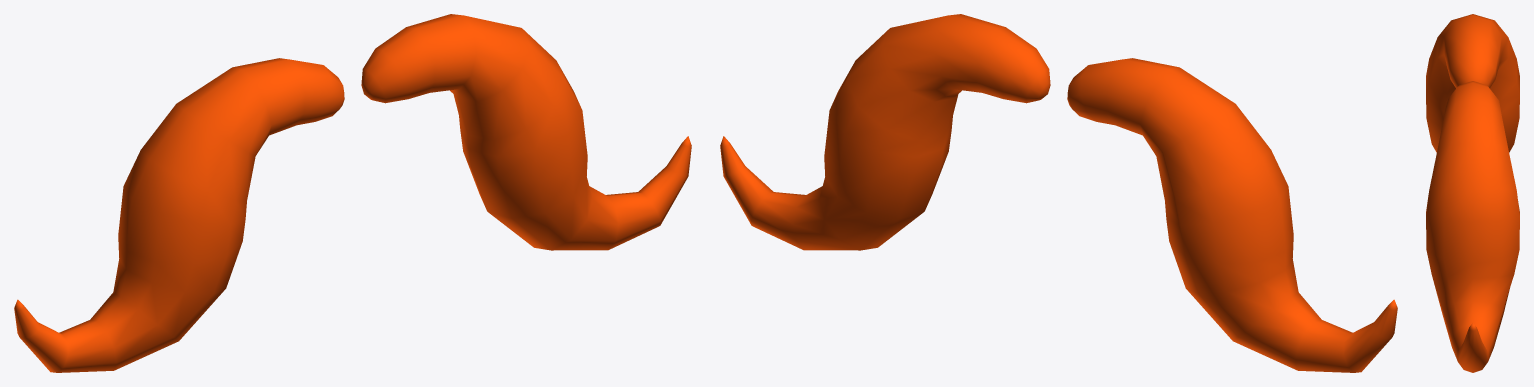
The model's file is Beard_07_06.fbx.
The picture shows the model from 3 angles, left to right: view 1: azimuth 30°, elevation 25°; view 2: azimuth 150°, elevation 25°; view 3: azimuth 270°, elevation 25°; orthographic projection. The views are drawn at different scales.
Visible parts, largest first — view 1: Beard_07_06; view 2: Beard_07_06; view 3: Beard_07_06.
Boxes of the visible parts, x1=… form: Beard_07_06: x1=14, y1=14, x2=691, y2=372; Beard_07_06: x1=720, y1=14, x2=1397, y2=372; Beard_07_06: x1=1426, y1=14, x2=1519, y2=372.
Size of the model in its own units: 18.3 by 6.9 by 2.82.
